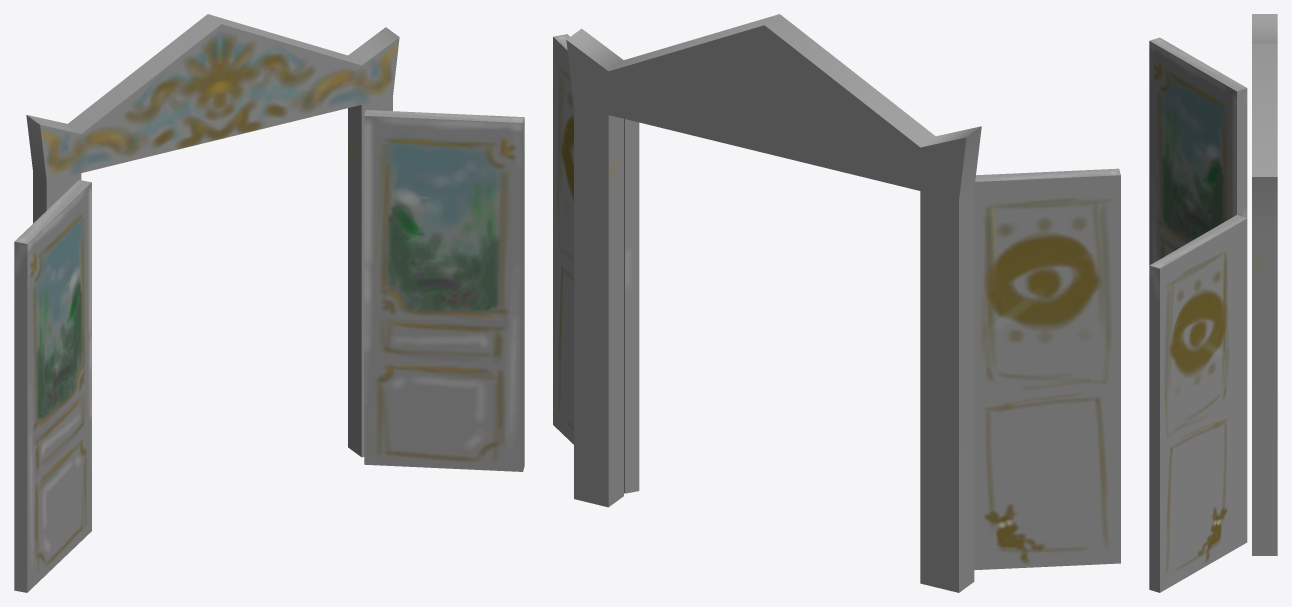
The model's file is 05 puerta final.obj.
The picture shows the model from 3 angles, left to right: view 1: azimuth 30°, elevation 25°; view 2: azimuth 150°, elevation 25°; view 3: azimuth 270°, elevation 25°; orthographic projection. The views are drawn at different scales.
Visible parts, largest first — view 1: puertas, marco_puertas; view 2: marco_puertas, puertas; view 3: puertas, marco_puertas.
Boxes of the visible parts, box(x1,y1,x2,y2) form: puertas: box(14, 110, 524, 592); marco_puertas: box(26, 14, 399, 457); marco_puertas: box(566, 14, 981, 592); puertas: box(553, 34, 1120, 570); puertas: box(1149, 37, 1247, 592); marco_puertas: box(1252, 14, 1277, 555).
Bounding box in the file's own units: 375 × 328 × 87.94.
2 materials, 2 textured.
